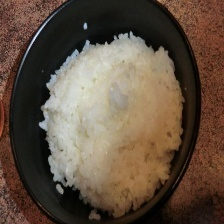rice: (35, 30, 186, 224)
